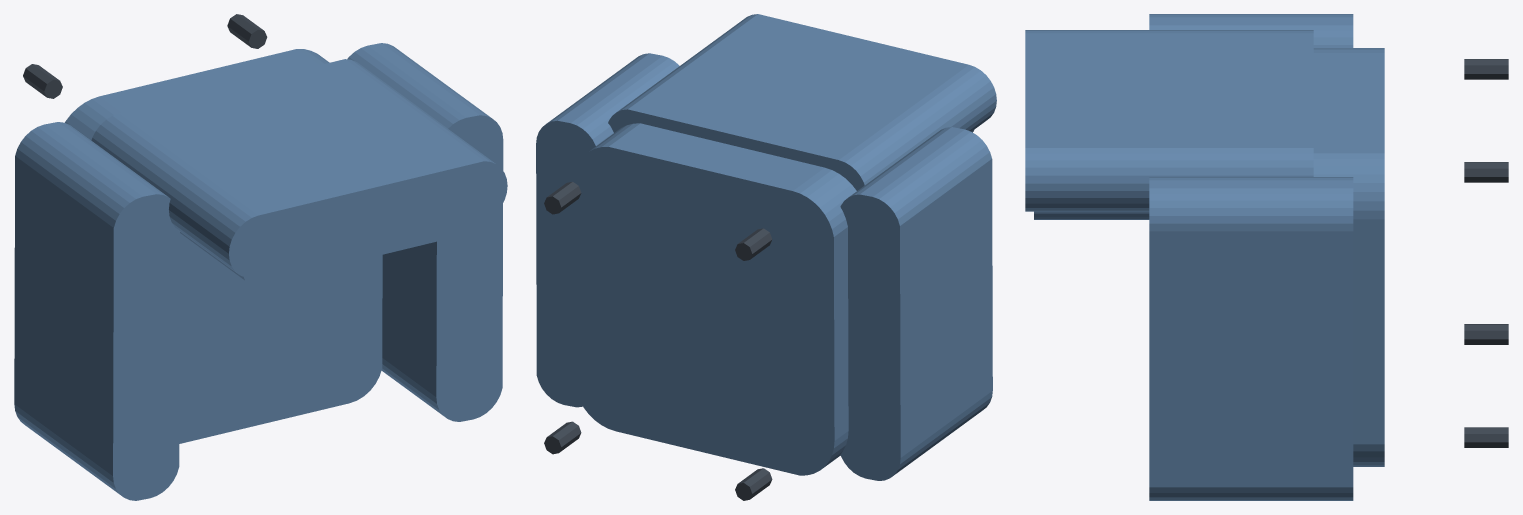
Rendered from LOUNGE_CHAIR_ROUND_001.glb.
The picture shows the model from 3 angles, left to right: view 1: azimuth 30°, elevation 25°; view 2: azimuth 150°, elevation 25°; view 3: azimuth 270°, elevation 25°; orthographic projection. The views are drawn at different scales.
Parts seen in each view (by area): view 1: sofa_back_001, sofa_arm_002, seat_cushion_004, sofa_arm_003, sofa_base_000, back_pillow_005, short_leg_007, short_leg_009; view 2: sofa_base_000, sofa_arm_002, sofa_back_001, sofa_arm_003, short_leg_008, short_leg_009, short_leg_007, short_leg_006; view 3: sofa_arm_003, sofa_back_001, sofa_base_000, sofa_arm_002, back_pillow_005, short_leg_006, short_leg_007, short_leg_008, short_leg_009.
Part boxes in pixels (x1,y1,x2,y2): sofa_back_001: [91, 59, 507, 278]; sofa_arm_002: [14, 122, 179, 500]; seat_cushion_004: [179, 234, 382, 443]; sofa_arm_003: [347, 43, 503, 421]; sofa_base_000: [65, 49, 329, 140]; back_pillow_005: [180, 222, 482, 285]; short_leg_007: [23, 64, 62, 98]; short_leg_009: [227, 14, 267, 48]; sofa_base_000: [574, 123, 856, 475]; sofa_arm_002: [840, 127, 992, 480]; sofa_back_001: [608, 14, 996, 190]; sofa_arm_003: [536, 53, 679, 407]; short_leg_008: [544, 421, 581, 454]; short_leg_009: [544, 181, 581, 214]; short_leg_007: [735, 228, 772, 260]; short_leg_006: [735, 468, 772, 500]; sofa_arm_003: [1149, 177, 1353, 500]; sofa_back_001: [1025, 30, 1313, 211]; sofa_base_000: [1313, 48, 1384, 466]; sofa_arm_002: [1149, 14, 1353, 47]; back_pillow_005: [1034, 211, 1149, 219]; short_leg_006: [1464, 324, 1508, 344]; short_leg_007: [1464, 59, 1508, 79]; short_leg_008: [1464, 427, 1508, 447]; short_leg_009: [1464, 162, 1508, 182].
Bounding box in the file's own units: 1.05 × 0.82 × 1.09.
